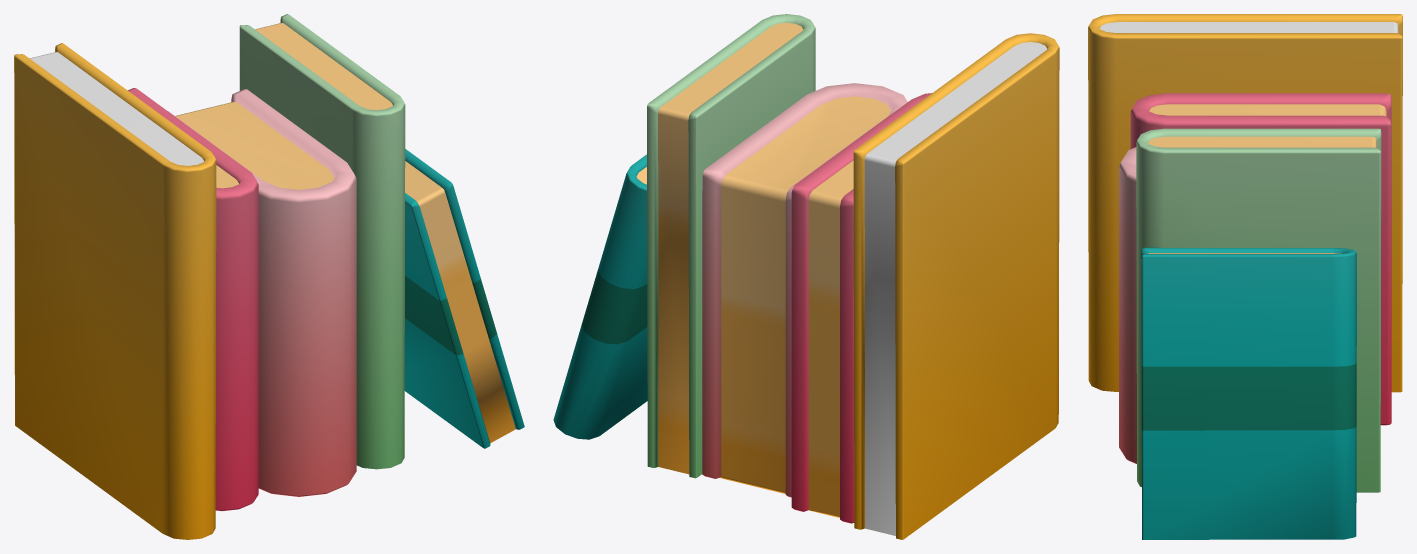
File: books.glb
3 views of the same model, side by side, from view 1: azimuth 30°, elevation 25°; view 2: azimuth 150°, elevation 25°; view 3: azimuth 270°, elevation 25° (orthographic). The views are drawn at different scales.
Parts seen in each view (by area): view 1: Books_01; view 2: Books_01; view 3: Books_01.
Part boxes in pixels (x1,y1,x2,y2): Books_01: (14,14,524,539); Books_01: (553,14,1059,539); Books_01: (1088,14,1402,539).
Bounding box in the file's own units: 0.3374 × 0.3227 × 0.2543.
1 material, 1 textured.
